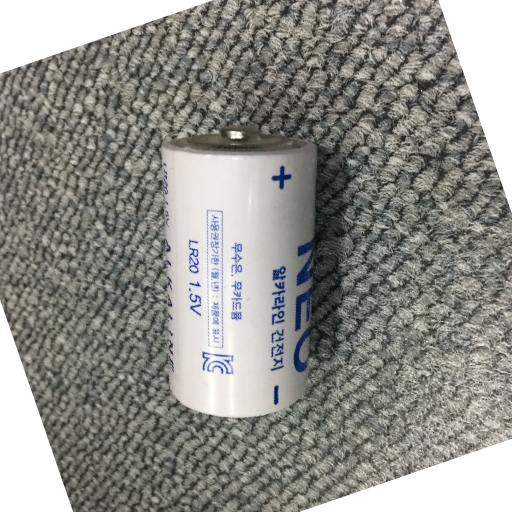Battery_0: (155, 117, 326, 430)
